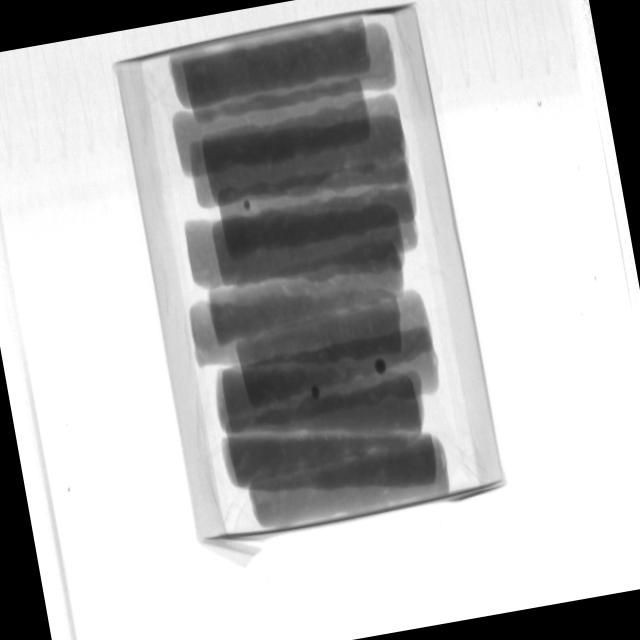ym: (373, 357, 388, 375), (311, 386, 321, 399), (245, 199, 253, 209)
